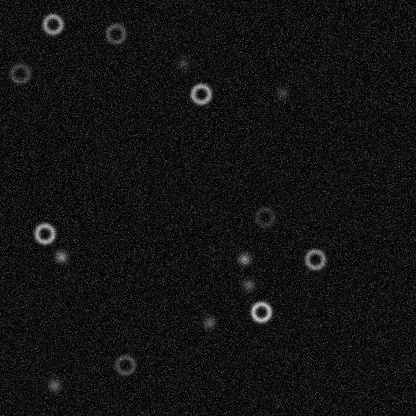Ring: (303, 247, 327, 271), (113, 352, 137, 376), (8, 61, 32, 85), (103, 21, 127, 45), (188, 81, 212, 105), (252, 204, 276, 228), (32, 221, 56, 245), (249, 299, 273, 323), (40, 12, 64, 36)
Spot: (240, 276, 256, 292), (274, 85, 290, 101), (53, 248, 69, 264), (46, 377, 62, 393), (174, 55, 190, 71), (201, 314, 217, 330), (236, 250, 252, 266)
